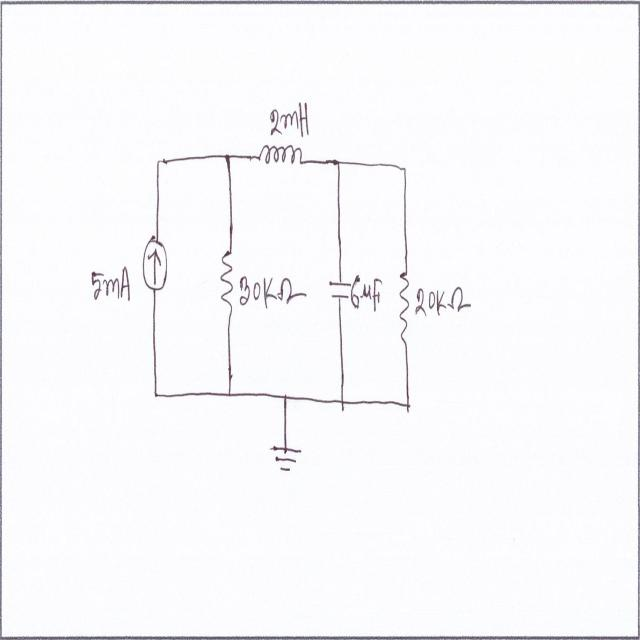capacitor: (328, 270, 352, 304)
current_source: (140, 236, 170, 293)
ground: (270, 440, 304, 476)
inductor: (257, 138, 305, 172)
resistor: (395, 269, 413, 350), (219, 246, 234, 312)
